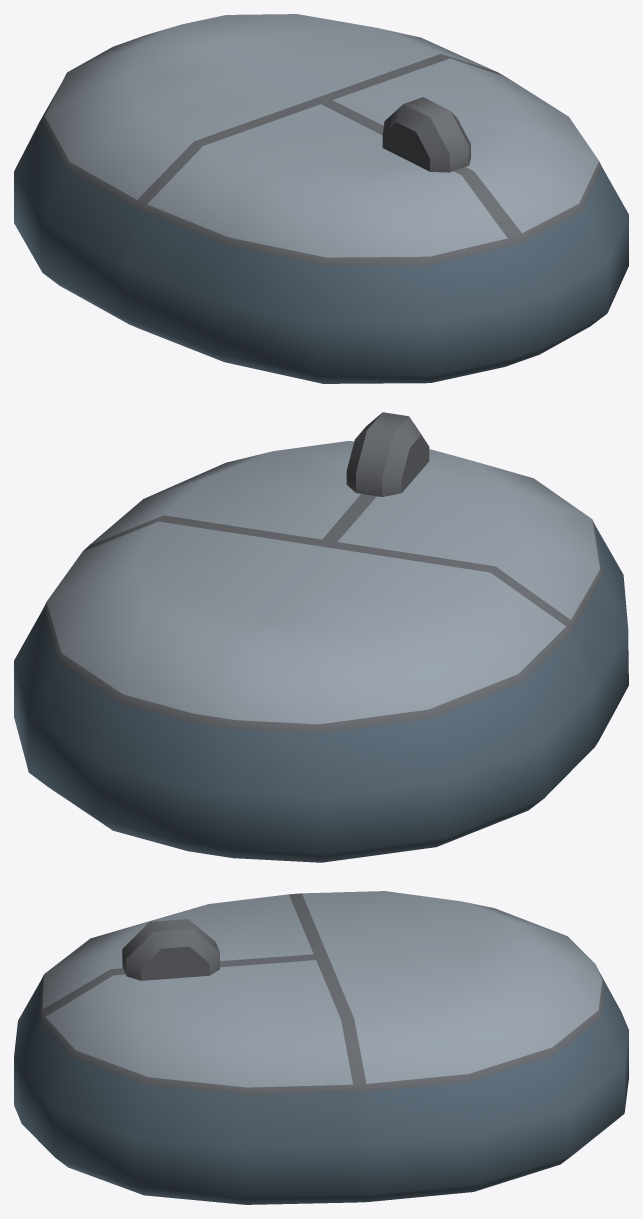
File: Mouse.fbx
The picture shows the model from 3 angles, top to bottom: view 1: azimuth 30°, elevation 25°; view 2: azimuth 150°, elevation 25°; view 3: azimuth 270°, elevation 25°; orthographic projection. The views are drawn at different scales.
Parts seen in each view (by area): view 1: Mouse; view 2: Mouse; view 3: Mouse.
Boxes of the visible parts, x1=… form: Mouse: x1=14, y1=14, x2=628, y2=383; Mouse: x1=14, y1=412, x2=628, y2=862; Mouse: x1=14, y1=891, x2=628, y2=1204.
Size of the model in its own units: 0.0987 by 0.0413 by 0.1196.
